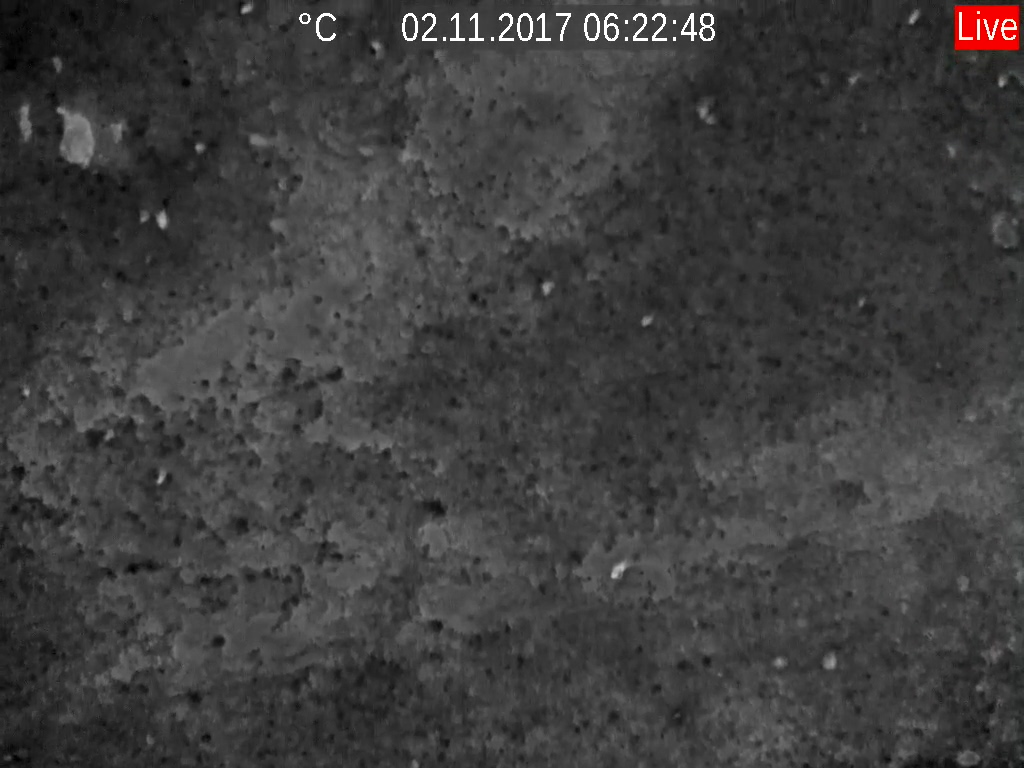warren: (605, 557, 635, 583), (150, 463, 173, 489), (154, 203, 173, 233), (902, 7, 927, 28), (639, 307, 657, 332)
